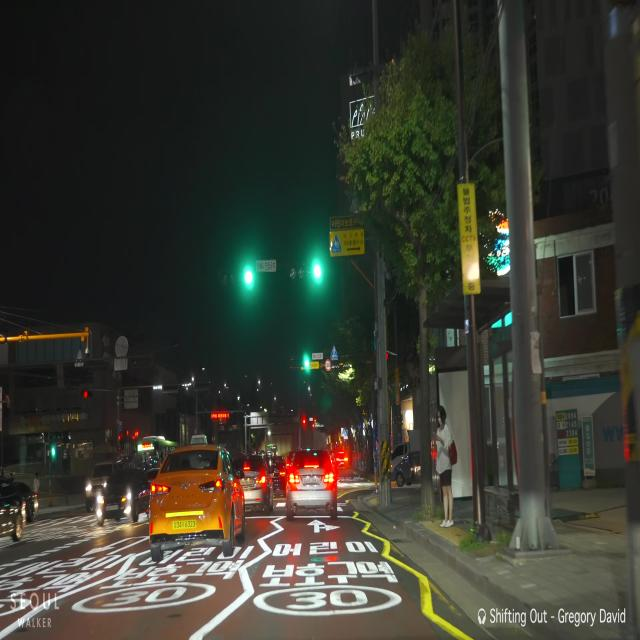Green Light: (242, 268, 254, 286), (313, 261, 323, 282)
